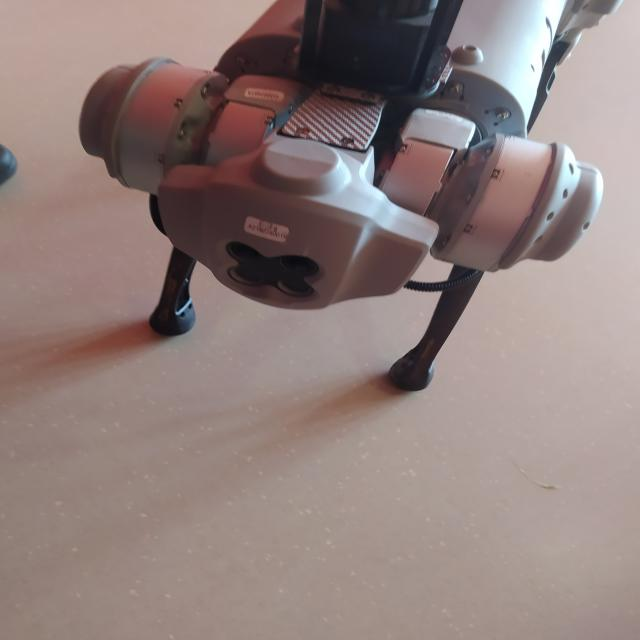unitree-go1-robot: (71, 0, 639, 407)
